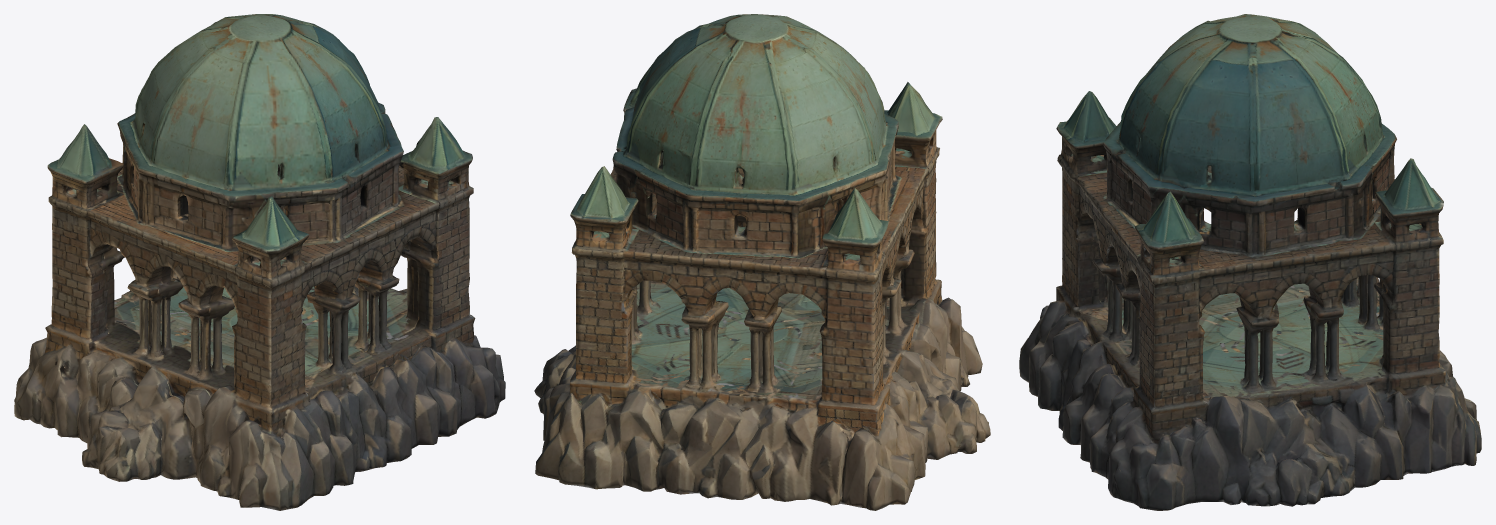
File: 롯데_돔요새.glb
3 views of the same model, side by side, from view 1: azimuth 30°, elevation 25°; view 2: azimuth 150°, elevation 25°; view 3: azimuth 270°, elevation 25° (orthographic). The views are drawn at different scales.
Visible parts, largest first — view 1: texture_mapping; view 2: texture_mapping; view 3: texture_mapping.
Boxes of the visible parts, x1,y1,x2,y2 form: texture_mapping: (14,14,505,510); texture_mapping: (534,14,990,510); texture_mapping: (1019,14,1481,510).
Size of the model in its own units: 0.9989 by 0.927 by 1.
Materials: 1 (1 with a texture image).
